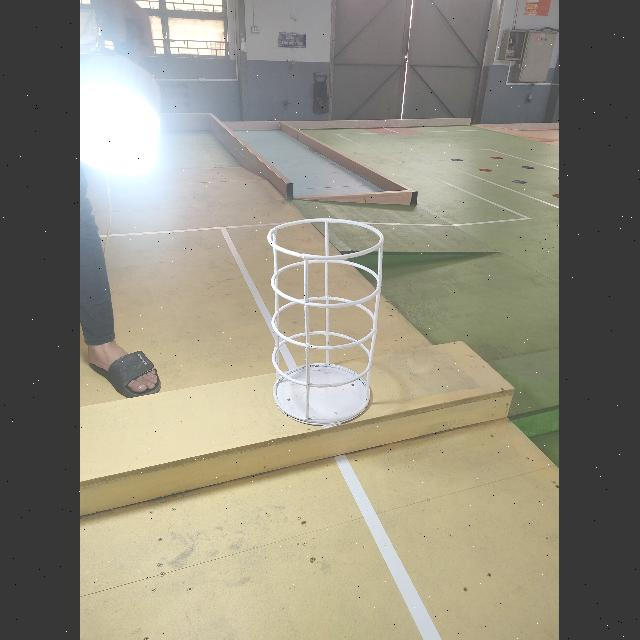S: (268, 217, 386, 428)
